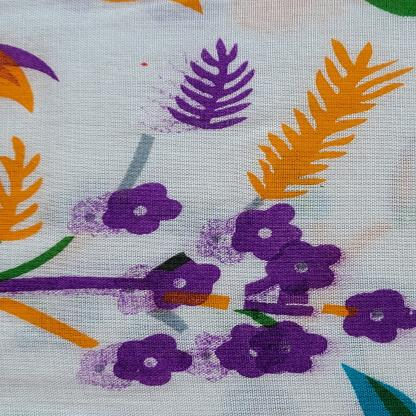spot: (134, 56, 154, 70)
